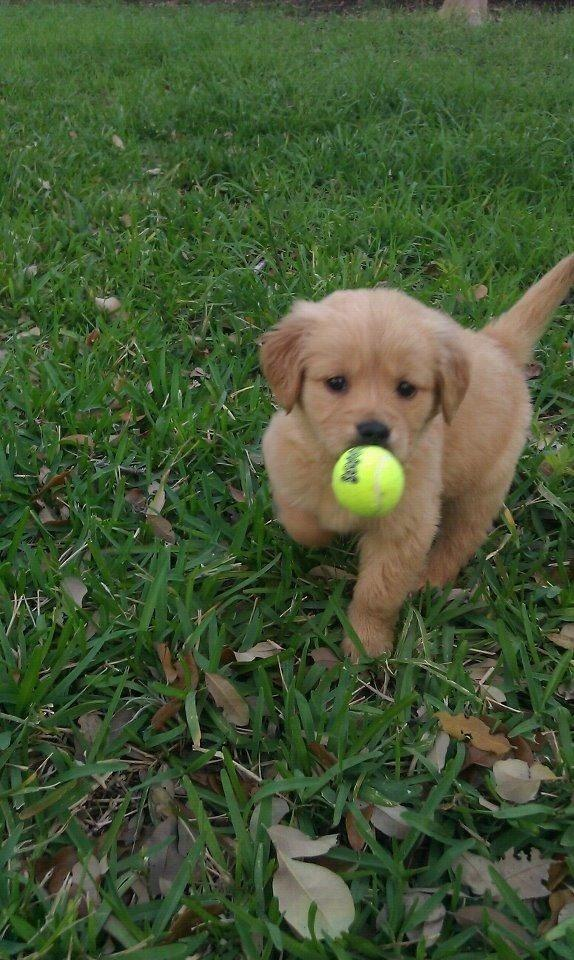puppy-dog: (262, 255, 574, 661)
